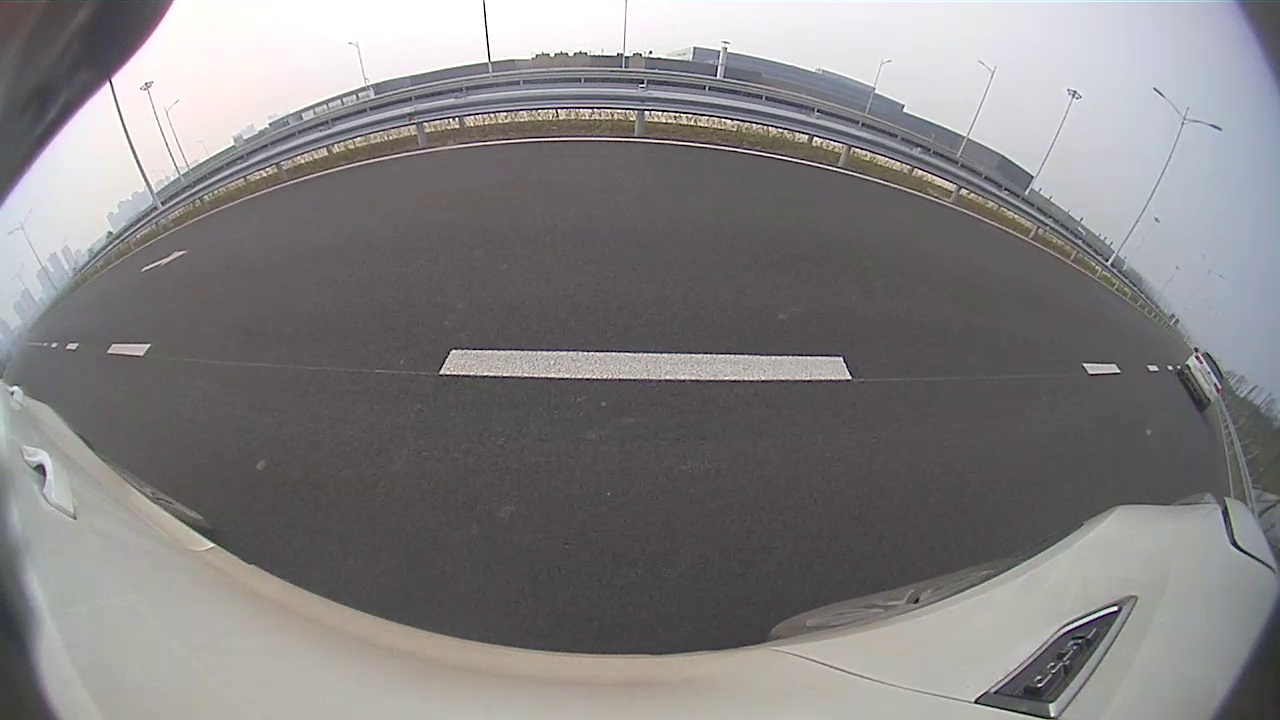car: (1178, 347, 1224, 412)
